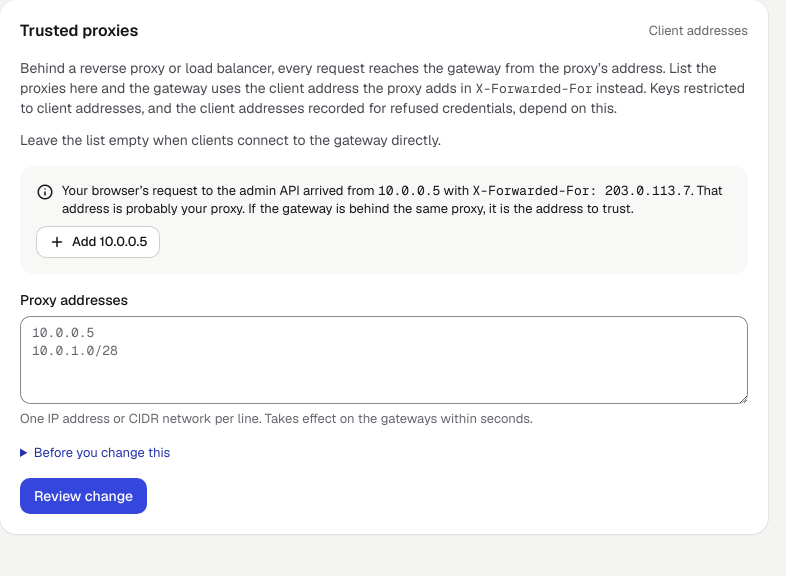
TrustedProxiesCard › refuses 0.0.0.0/0 before asking for confirmation
The image size is (786, 576).
Type "0.0.0.0/0" into the text box with id "trusted-proxies" at (384, 360), box [20,316,748,404]
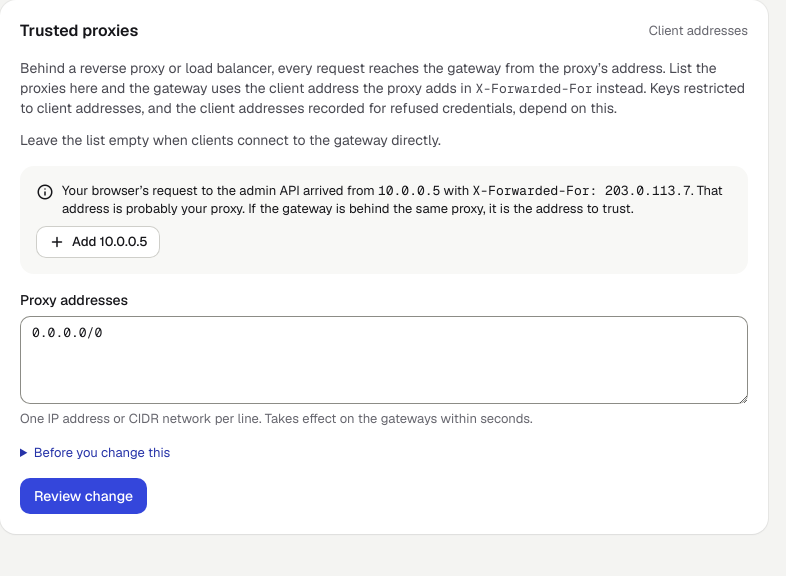
Submit the form, box [20,290,748,514]
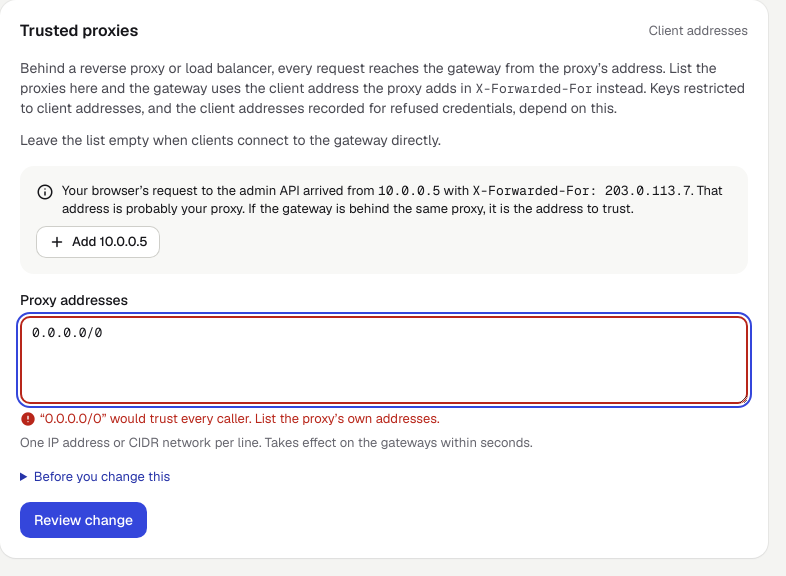
Now the text "trust every caller" is shown, box [40,410,440,427]
